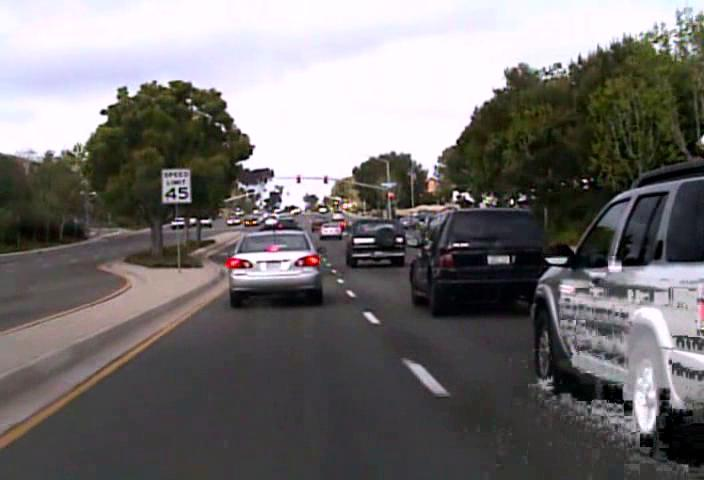speedLimit45: (160, 167, 191, 203)
